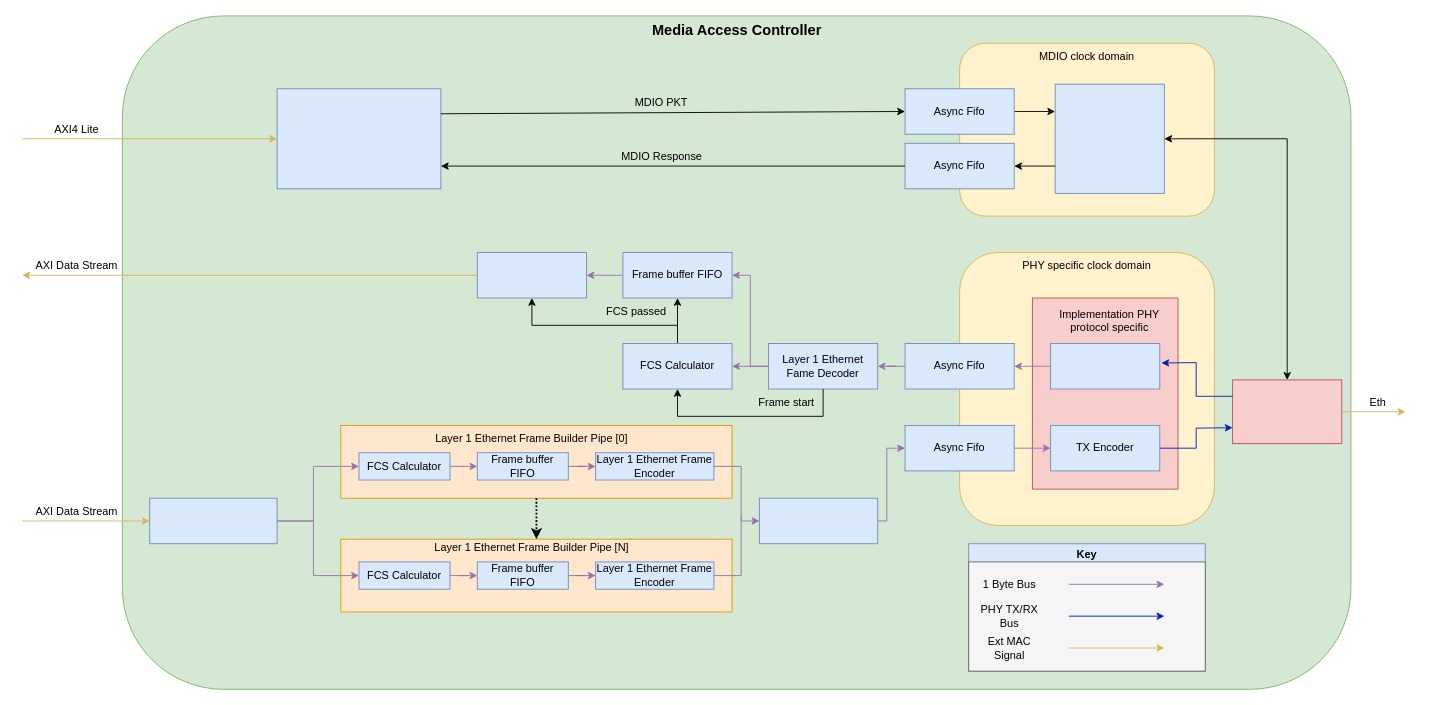
The diagram is 1429 pixels wide and 705 high, and some of its shapes have lost their labels. Here are the shapes that lost their labels. From the top down, the centre of each, then its label:
At point (358, 138): "AXI Lite Slave MAC Register Interface".
At point (1109, 138): "MDIO Controller".
At point (531, 275): "Master AXI Data Stream Encoder".
At point (1105, 366): "RX Decoder".
At point (1287, 411): "PHY (MII, RMII, or GMII)".
At point (213, 520): "Slave TX Pipeline Writer".
At point (818, 520): "TX Pipeline Reader".
